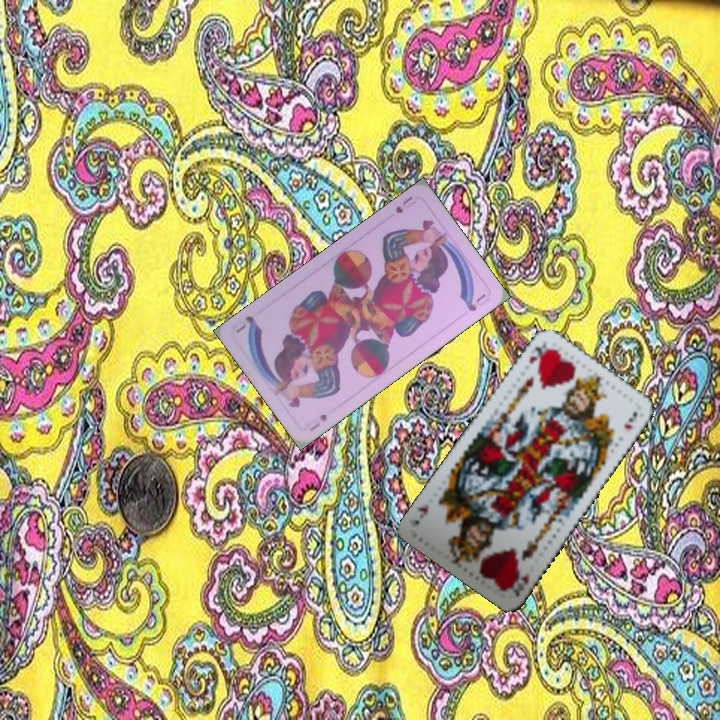HK: (504, 567, 532, 600), (525, 340, 550, 366)
SU: (304, 410, 330, 434), (391, 192, 416, 216)
